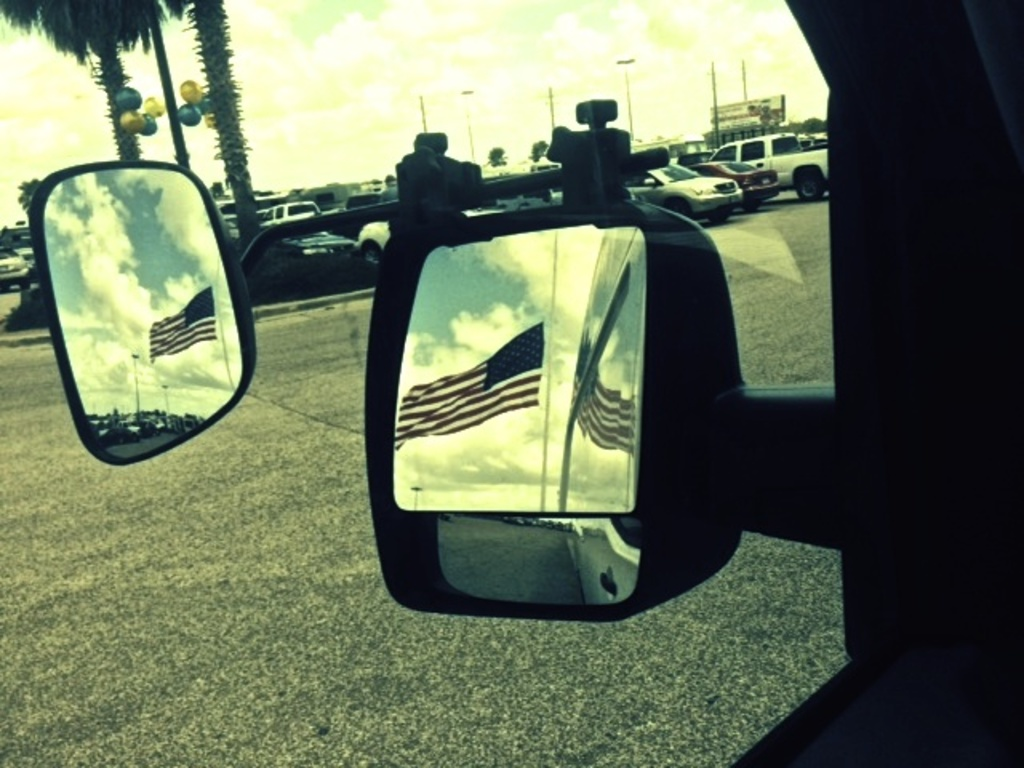Car: (0, 128, 825, 305), (353, 214, 499, 260), (625, 166, 743, 220), (692, 161, 784, 201), (0, 240, 28, 291), (286, 235, 356, 254), (259, 200, 318, 222)
